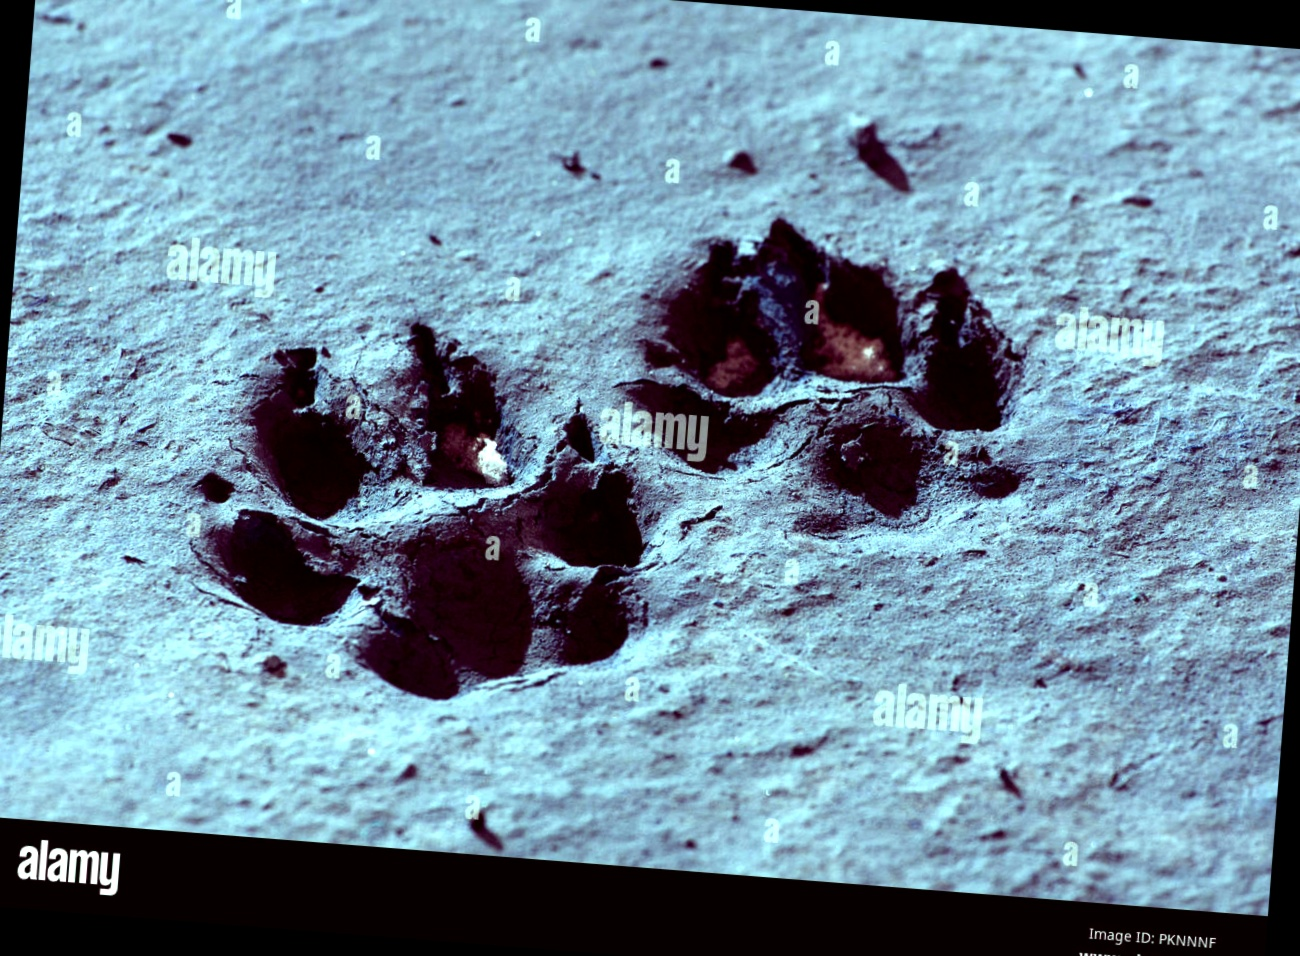loup: (178, 115, 1085, 759)
